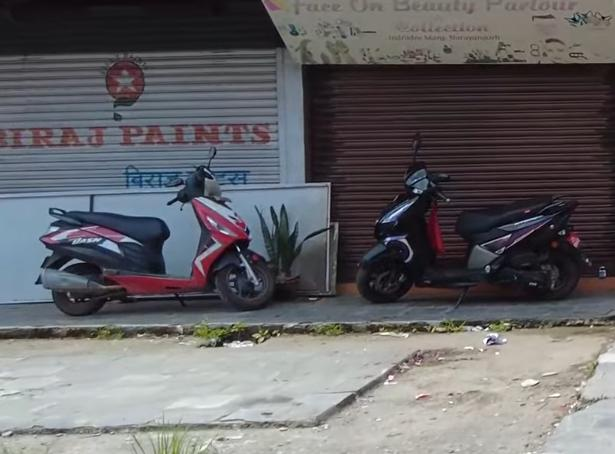scooter: (39, 155, 277, 323), (357, 157, 595, 321)
